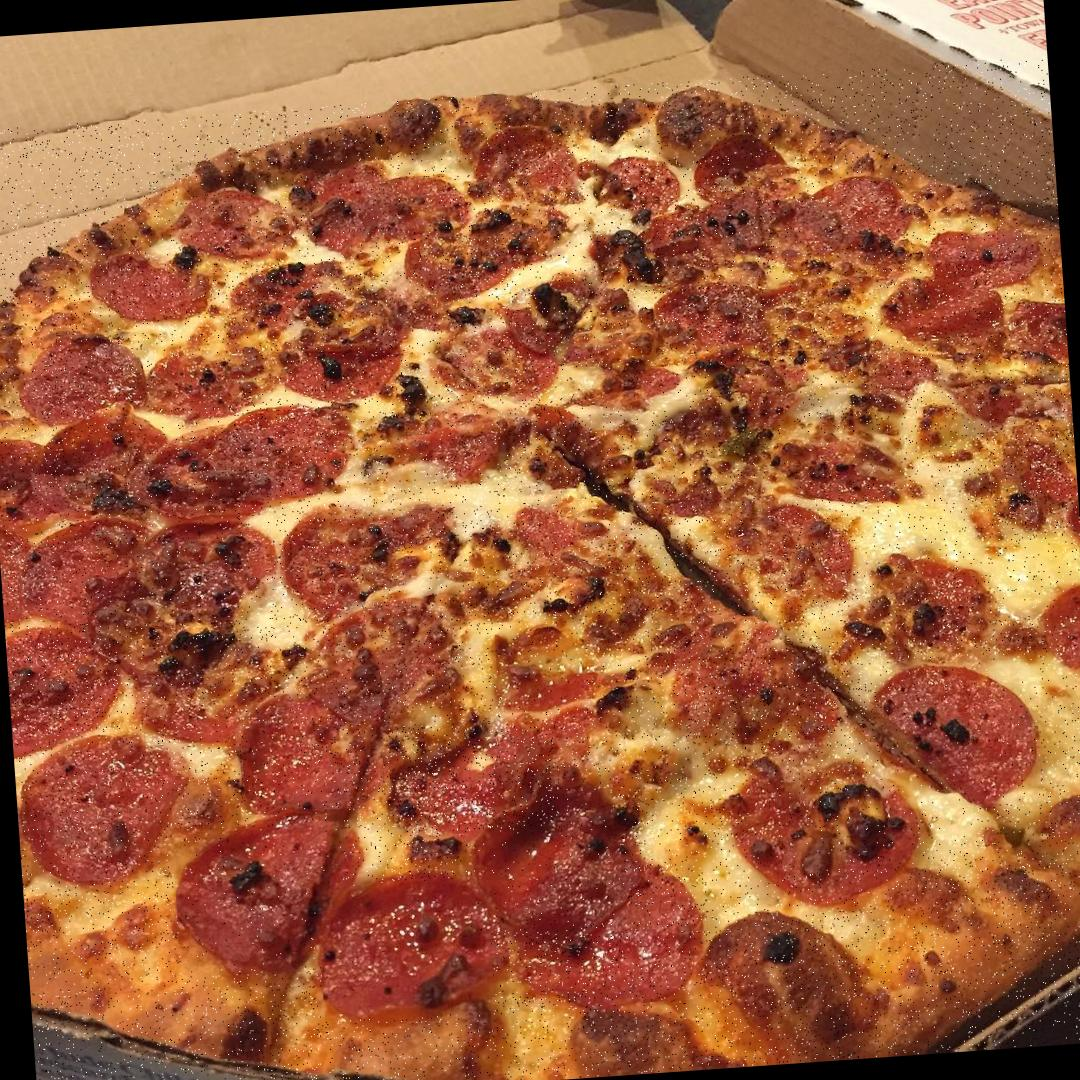Pepperoni: (721, 753, 916, 914), (303, 588, 485, 759), (505, 867, 718, 1012), (172, 815, 353, 976), (874, 652, 1043, 812), (316, 877, 496, 1023), (2, 416, 265, 515), (25, 731, 186, 885), (459, 796, 629, 934), (382, 716, 560, 839), (680, 634, 832, 748), (240, 691, 377, 816), (282, 494, 418, 610), (134, 520, 273, 629), (22, 518, 156, 621), (874, 275, 1016, 362), (6, 628, 120, 736), (869, 554, 993, 648), (495, 624, 623, 714), (743, 500, 842, 609), (986, 428, 1080, 542), (137, 637, 233, 746), (209, 400, 346, 474), (770, 430, 902, 504), (434, 320, 556, 400), (32, 334, 143, 418), (409, 232, 530, 305), (478, 122, 586, 202), (653, 278, 770, 351), (504, 488, 616, 564), (90, 246, 204, 320), (386, 414, 498, 486), (230, 265, 360, 327), (184, 179, 282, 260), (282, 332, 410, 394), (932, 224, 1048, 292), (645, 208, 770, 262), (812, 171, 902, 245), (310, 162, 376, 256), (862, 340, 945, 414), (573, 361, 676, 415), (694, 138, 777, 196), (519, 397, 595, 458), (156, 354, 238, 410), (1043, 582, 1080, 696), (598, 155, 668, 212), (382, 177, 444, 240)
Pizza: (0, 56, 1080, 1080)
